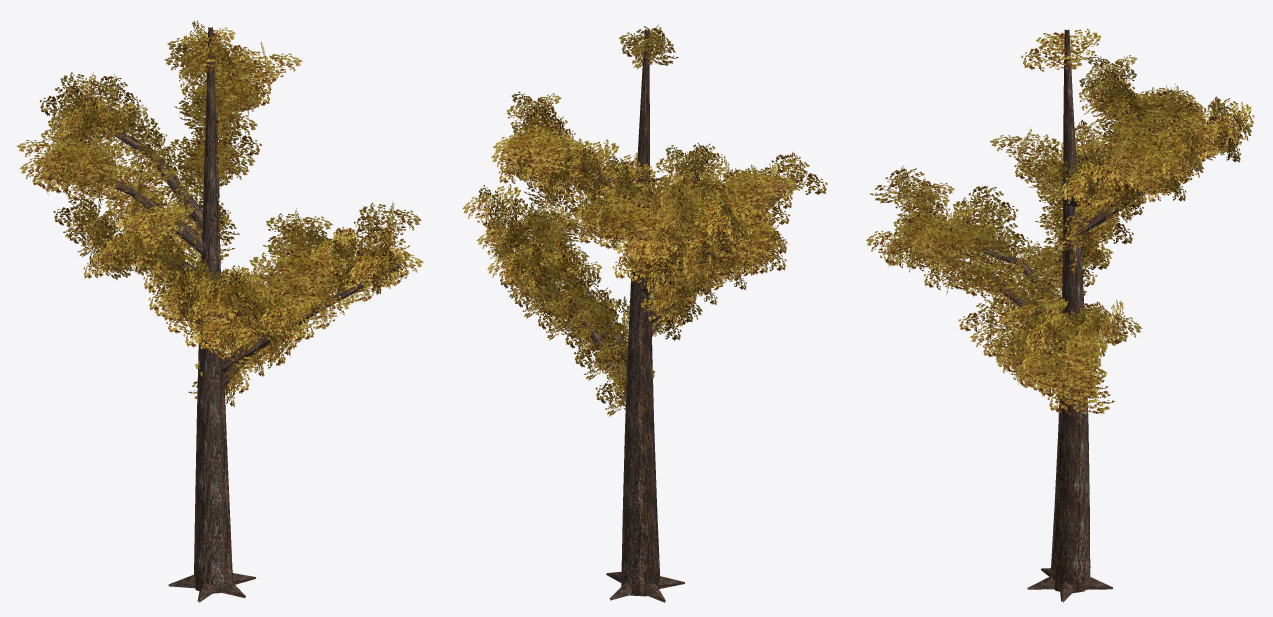
Rendered from tree_3d_01_yellow_lod1.glb.
The picture shows the model from 3 angles, left to right: view 1: azimuth 30°, elevation 25°; view 2: azimuth 150°, elevation 25°; view 3: azimuth 270°, elevation 25°; orthographic projection.
Visible parts, largest first — view 1: foliage_cards, wood_geometry; view 2: foliage_cards, wood_geometry; view 3: foliage_cards, wood_geometry.
Boxes of the visible parts, box(x1,y1,x2,y2) form: foliage_cards: box(16, 20, 423, 406); wood_geometry: box(74, 27, 400, 602); foliage_cards: box(462, 24, 827, 416); wood_geometry: box(516, 30, 758, 602); foliage_cards: box(866, 28, 1254, 421); wood_geometry: box(904, 29, 1209, 602).
Bounding box in the file's own units: 6.63 × 10.07 × 6.51.
Materials: 2 (2 with a texture image).
